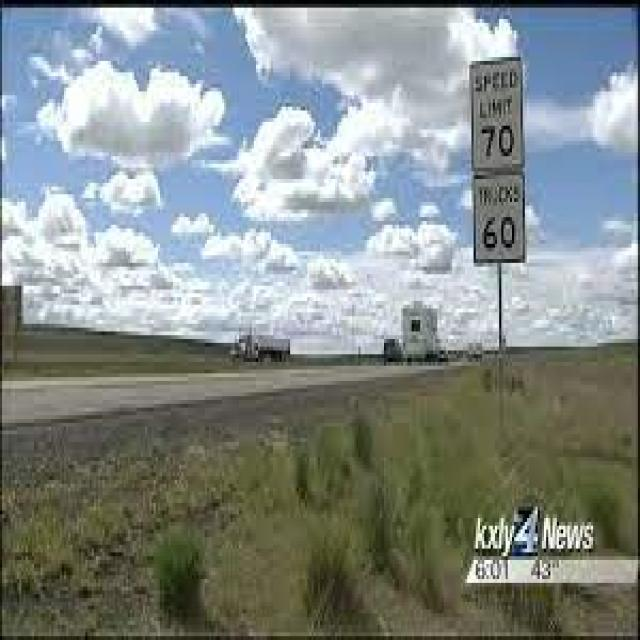speedLimit70: (474, 68, 520, 164)
